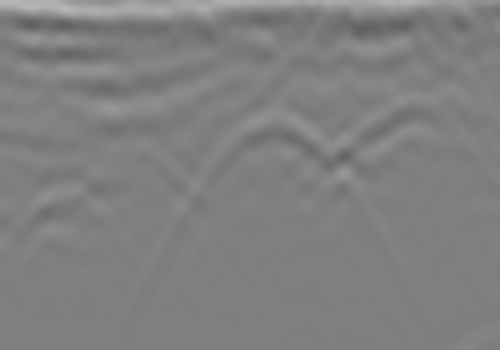hyperbola: (153, 105, 372, 323), (325, 88, 494, 223), (1, 181, 138, 300)
